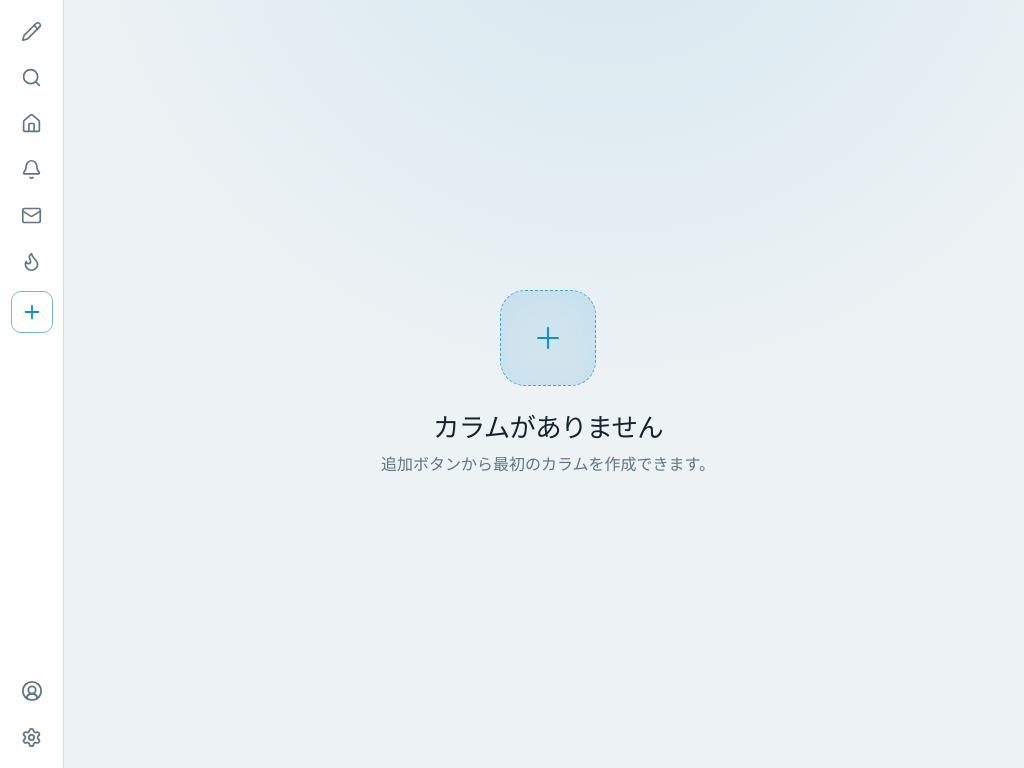
Test: NyTweetDeck shell › prefetches list candidates and updates an open picker only when the background snapshot changes
Step 1. Click the 1st button named "カラムを追加" → (548, 338), box [500,290,596,386]
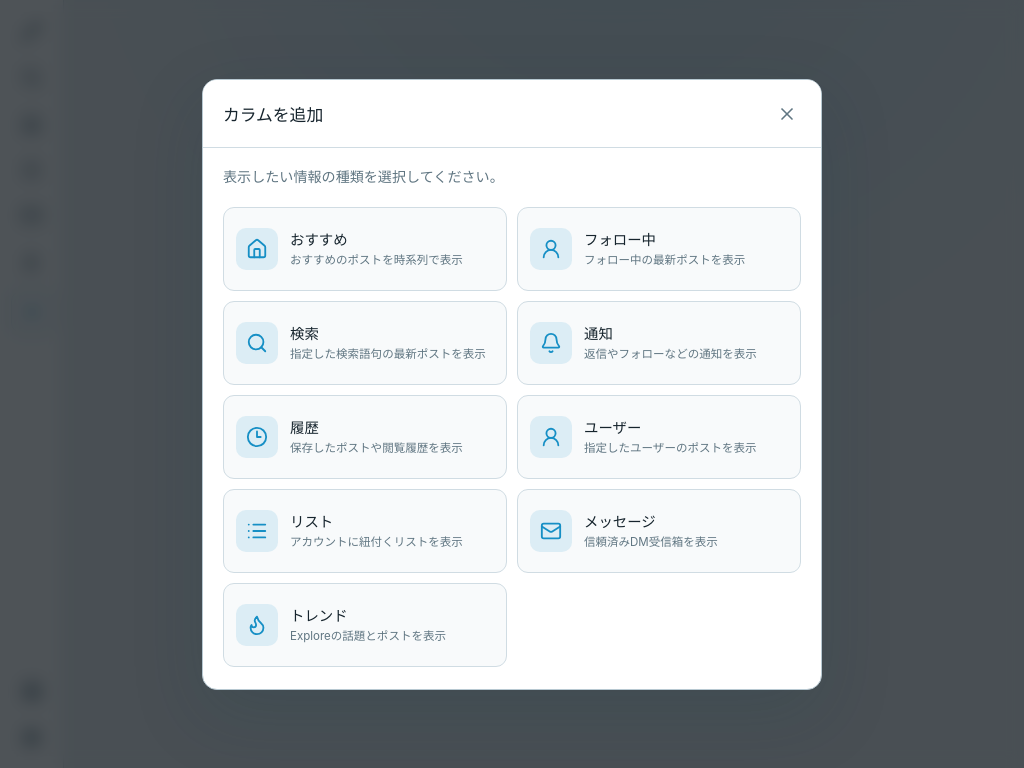
Step 2. Click the button "リスト アカウントに紐付くリストを表示" → (257, 530), box [223,488,507,572]
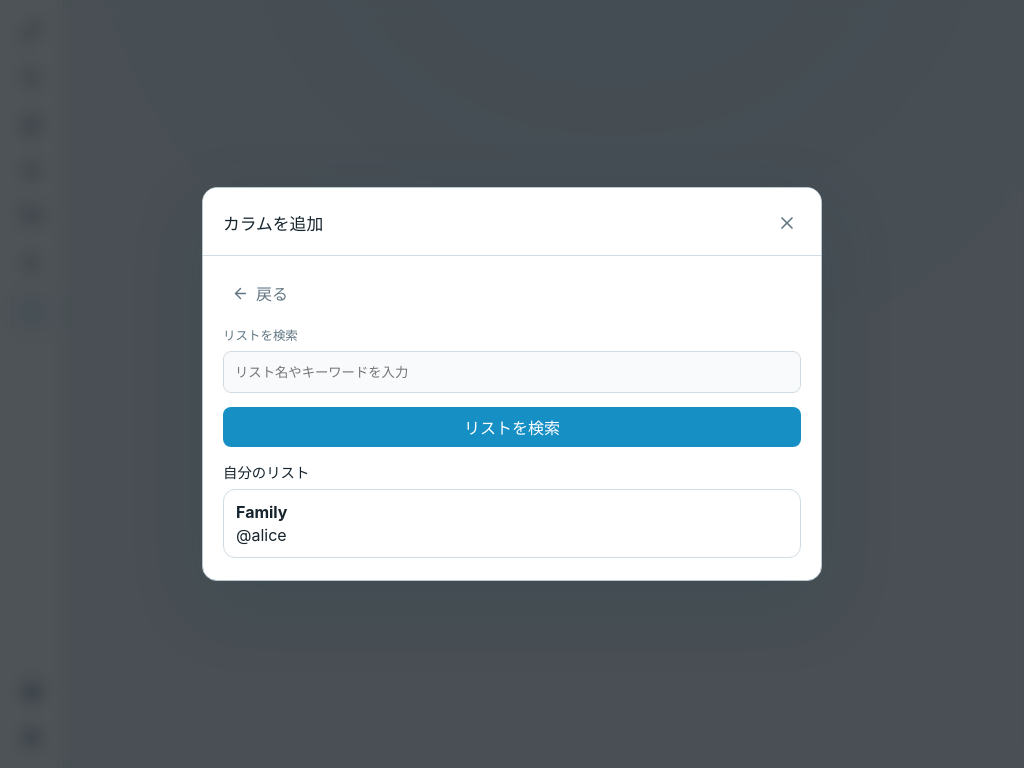
Check: the button "Family @alice" is shown, box [223,489,801,558]
